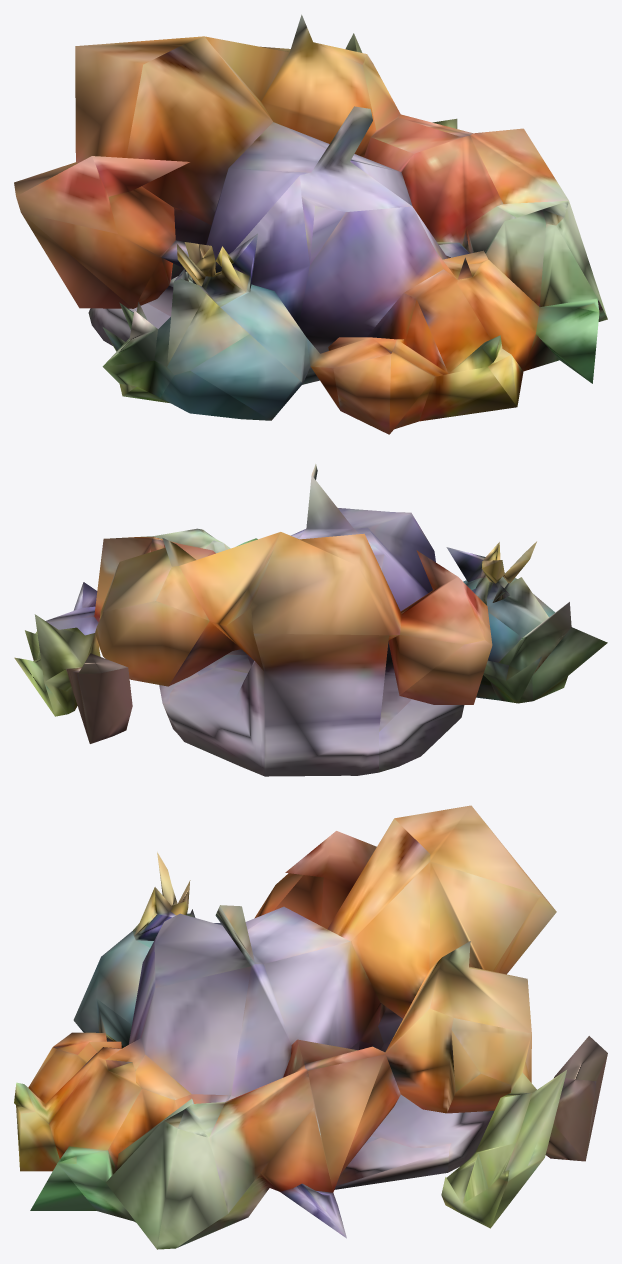
File: pumpkin_patch.glb
3 views of the same model, one above another, from view 1: azimuth 30°, elevation 25°; view 2: azimuth 150°, elevation 25°; view 3: azimuth 270°, elevation 25° (orthographic). The views are drawn at different scales.
Visible parts, largest first — view 1: tripo_node_729a3167-87d6-46bc-9548-e7d3fece4398; view 2: tripo_node_729a3167-87d6-46bc-9548-e7d3fece4398; view 3: tripo_node_729a3167-87d6-46bc-9548-e7d3fece4398.
Part boxes in pixels (left/top/right/bottom): tripo_node_729a3167-87d6-46bc-9548-e7d3fece4398: left=14, top=14, right=607, bottom=434; tripo_node_729a3167-87d6-46bc-9548-e7d3fece4398: left=14, top=464, right=607, bottom=776; tripo_node_729a3167-87d6-46bc-9548-e7d3fece4398: left=14, top=805, right=607, bottom=1249.
Bounding box in the file's own units: 0.9621 × 0.4168 × 0.8679.
1 material, 1 textured.
